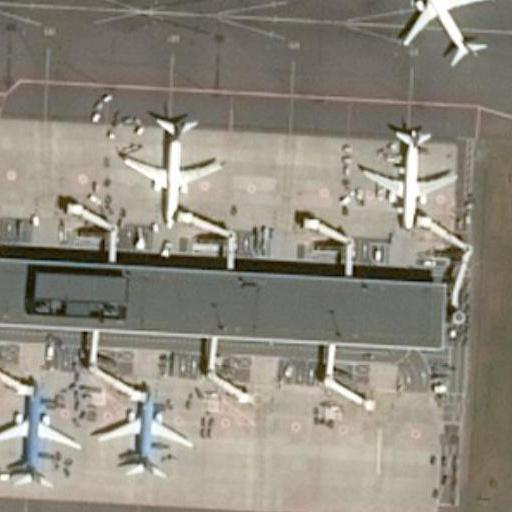Aircraft: (119, 113, 223, 218), (357, 127, 458, 226), (96, 387, 194, 480), (0, 386, 80, 491), (395, 0, 496, 67)
